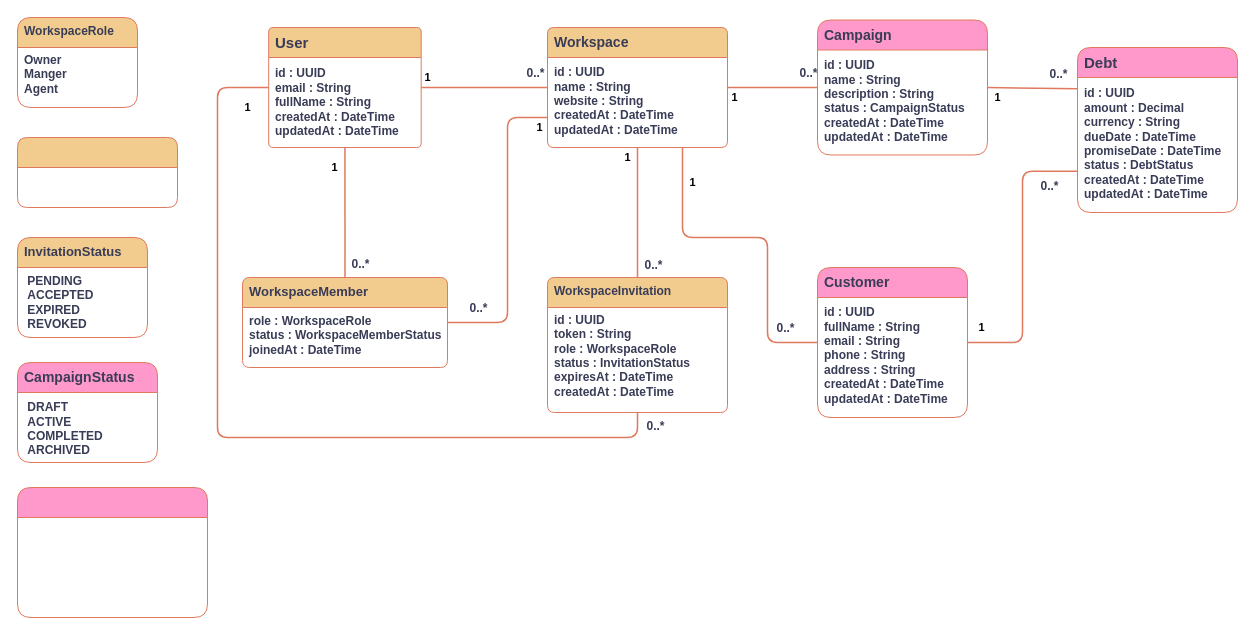
The diagram is 1255 pixels wide and 635 high, and some of its shapes have lost their labels. Each missing label, with the centre of its shape:
"DebtStatus IMPORTED UNPAID NOTIFIED PROMISE_TO_PAY PAID OVERDUE_AFTER_PROMISE" belongs at [112,552].
"WorkspaceMemberStatus ACTIVE INACTIVE" belongs at [97,172].
